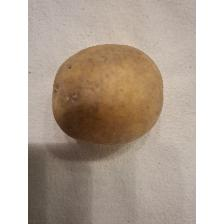Kartoffel: (50, 40, 166, 148)
